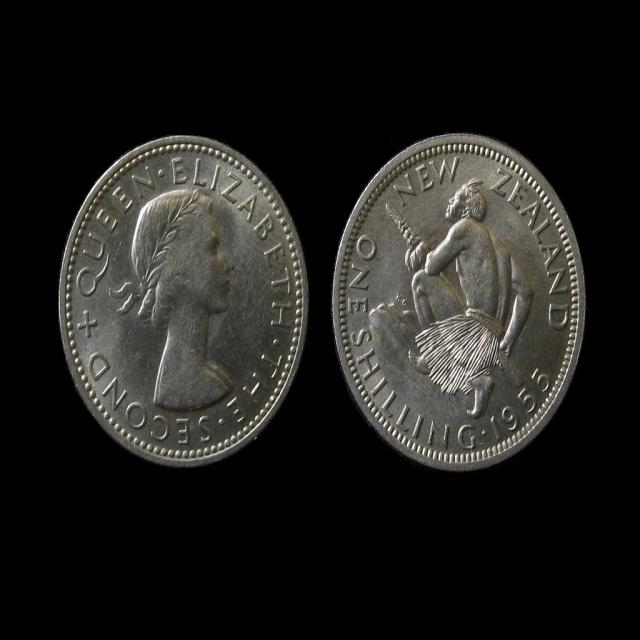Coin: (331, 130, 588, 471), (57, 132, 309, 471)
